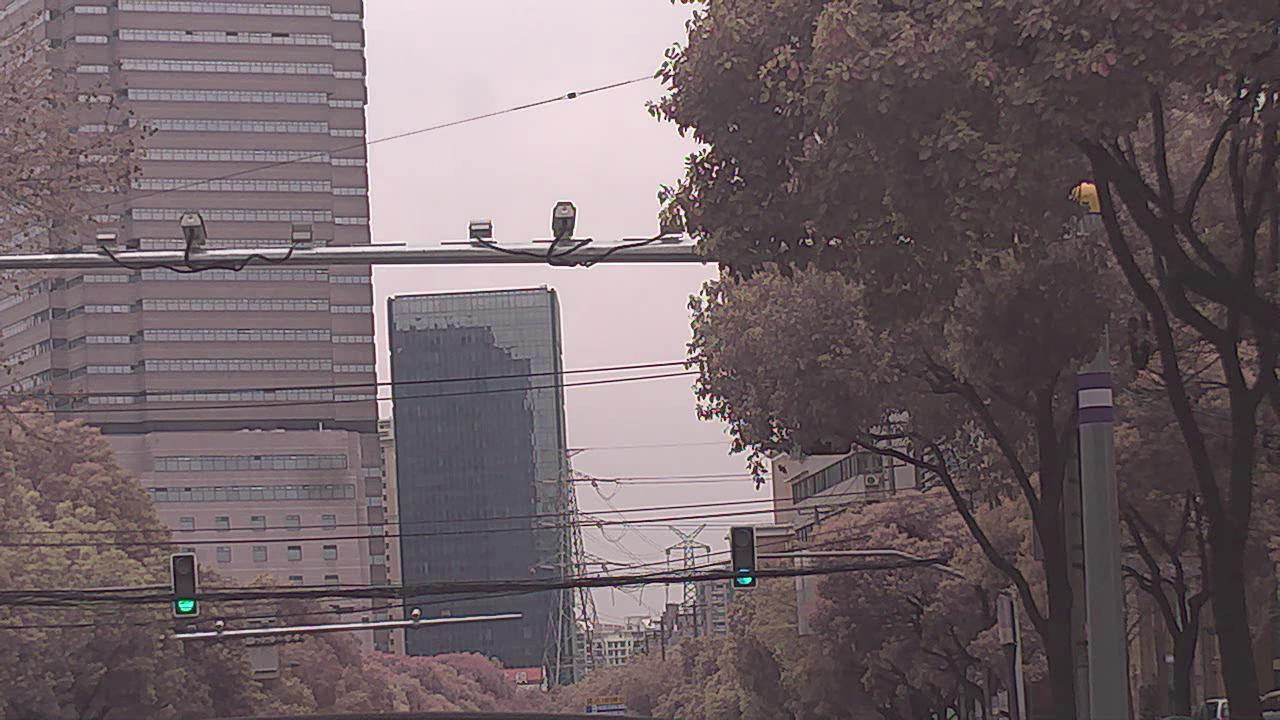traffic_light: (170, 552, 197, 617), (730, 528, 757, 590)
